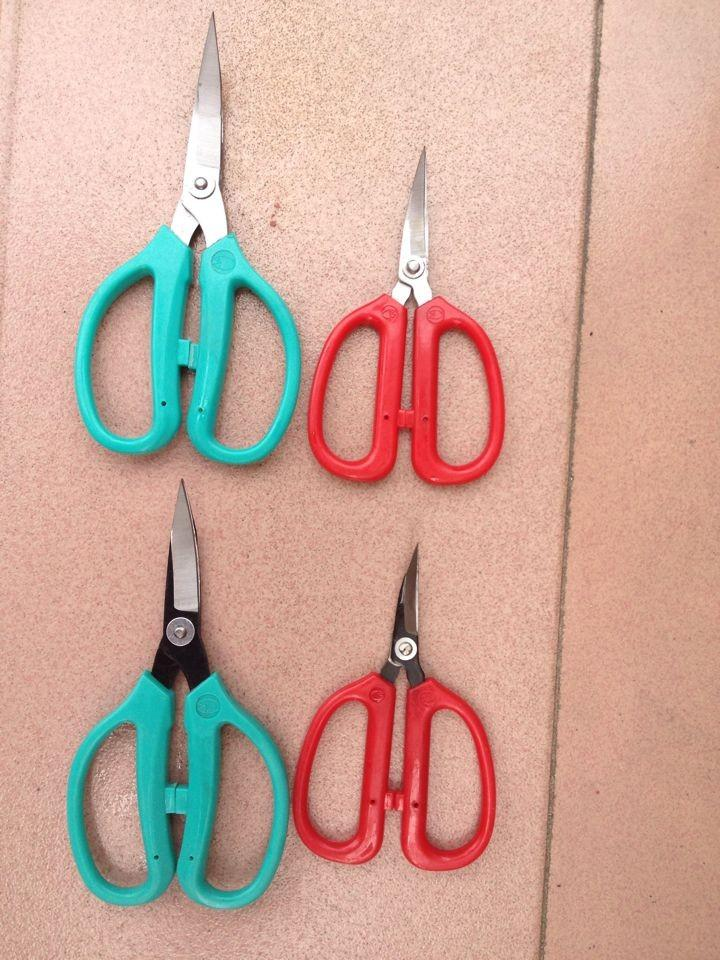scissor: (63, 28, 560, 877)
